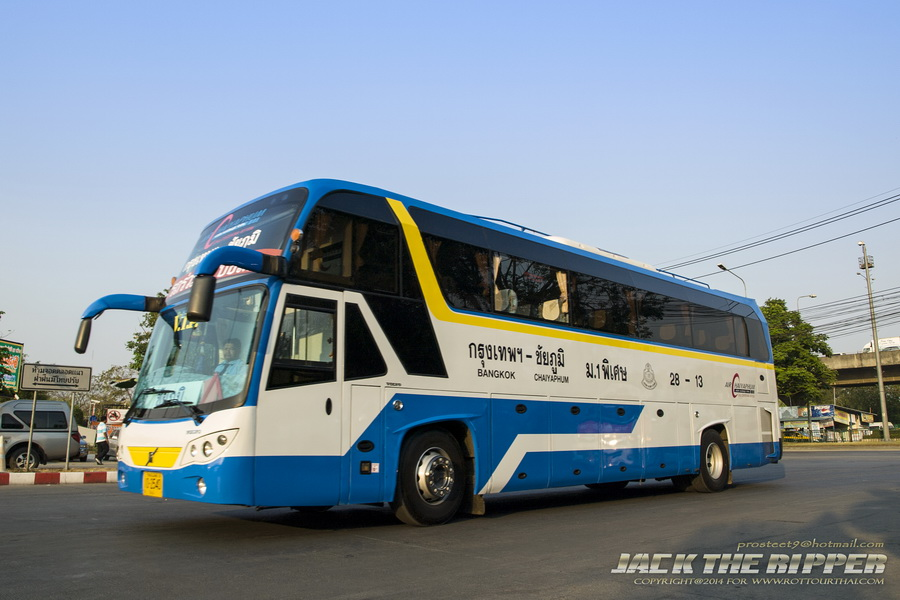bus: (118, 176, 783, 526)
